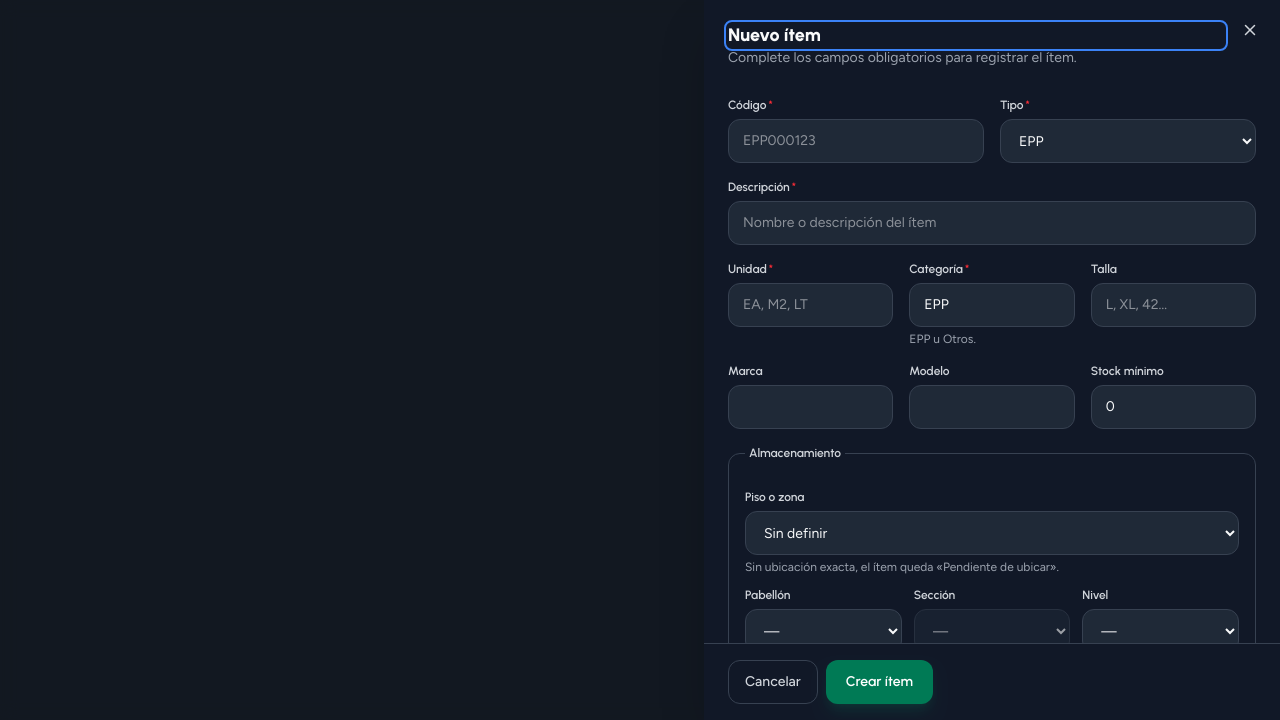
Scenario: ItemFormModal — alta › un stock mínimo «» se rechaza
This screenshot has width=1280, height=720.
Step 1. Type "EPP000900" into the field labelled "Código" → point(856, 141), box [728,119,984,163]
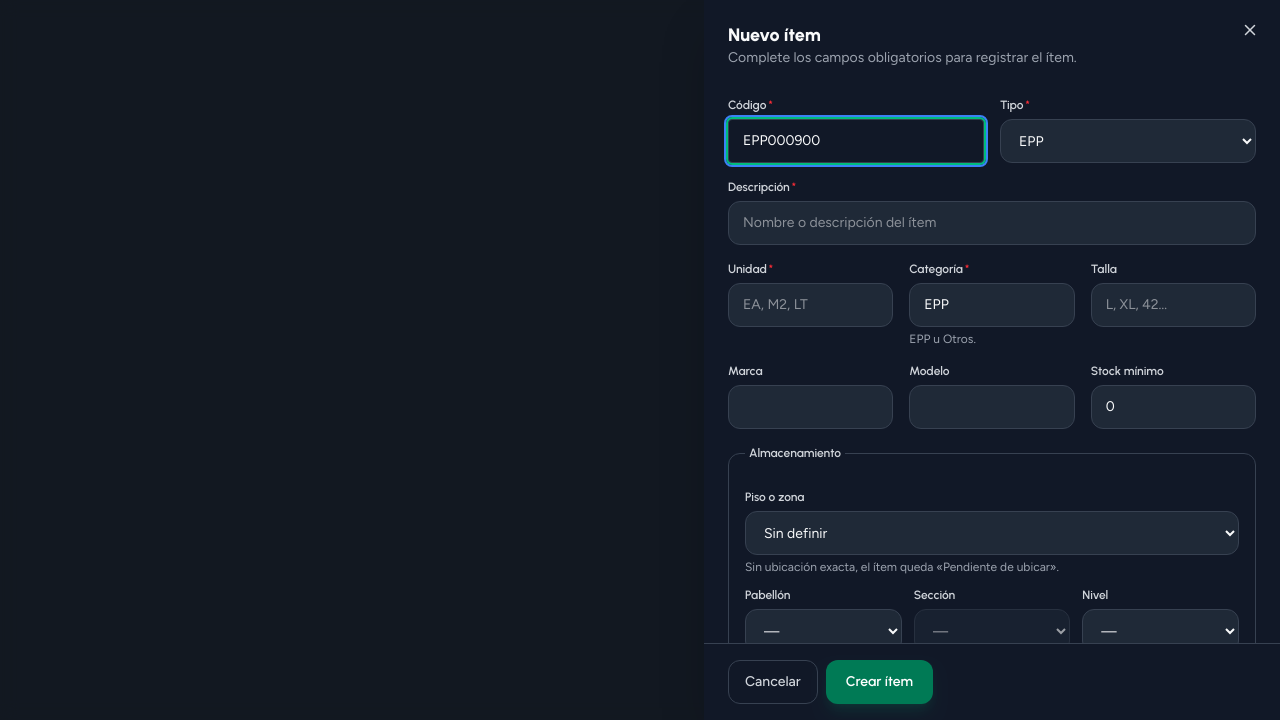
Step 2. Type "Casco nuevo" into the field labelled "Descripción" → point(992, 223), box [728,201,1256,245]
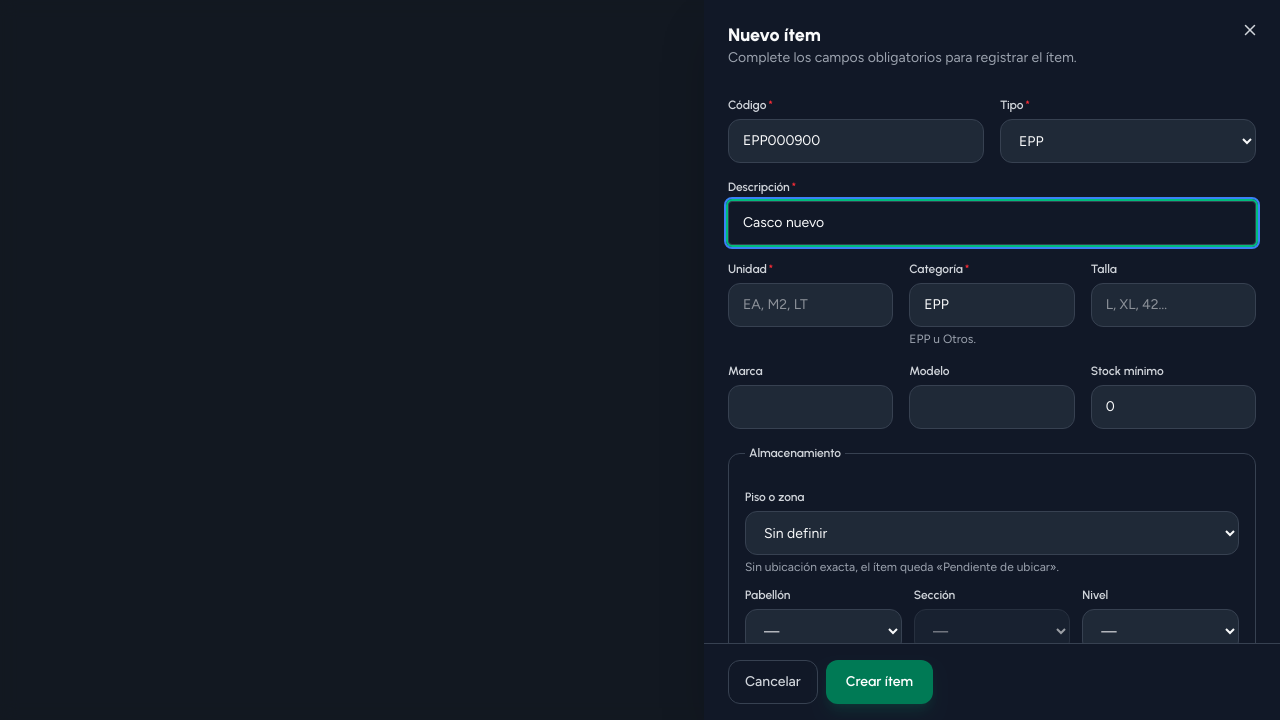
Step 3. Type "EA" into the field labelled "Unidad" → point(811, 305), box [728,283,893,327]
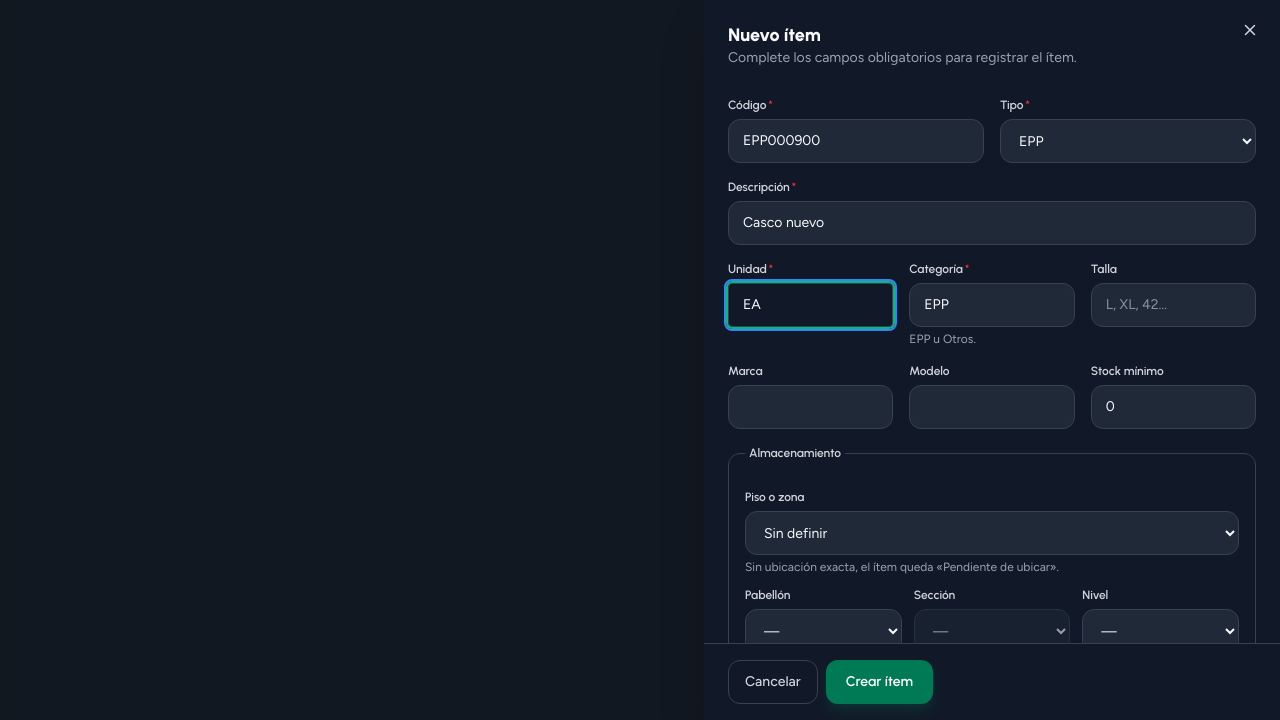
Step 4. Clear the number field labelled "Stock mínimo" → point(1173, 407), box [1091,385,1256,429]
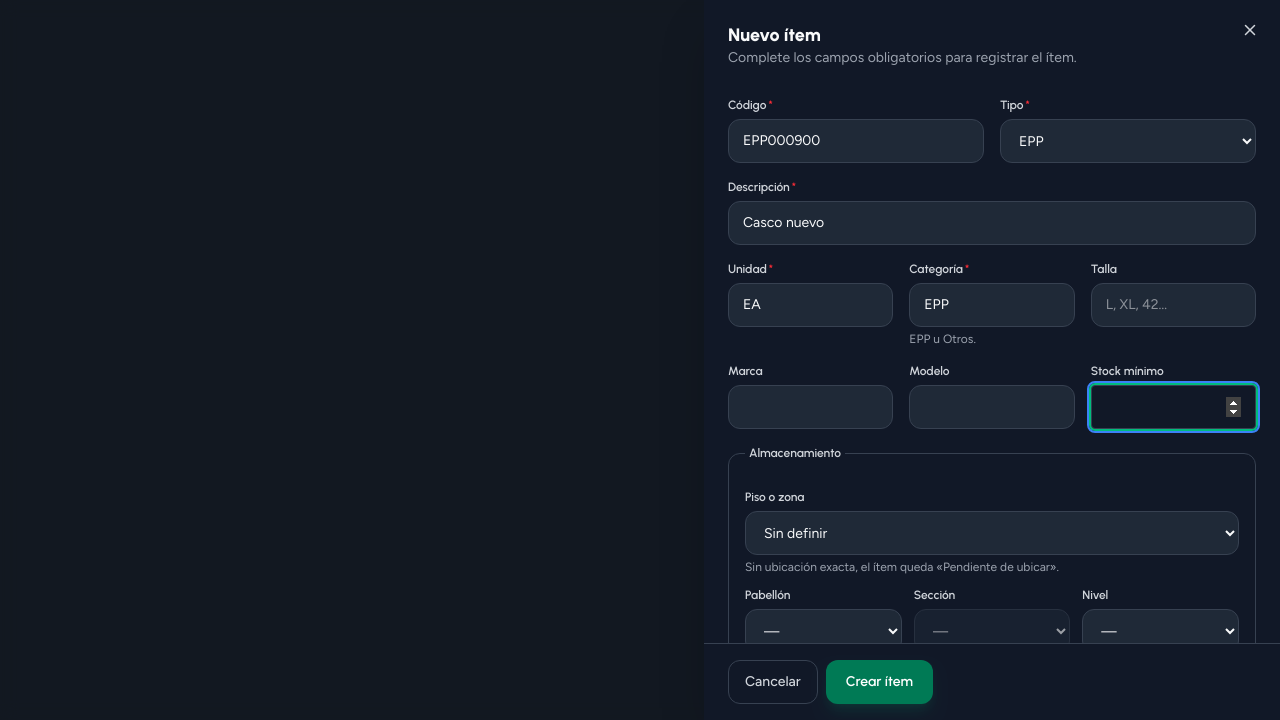
Step 5. Click the button "Crear ítem" → point(879, 682), box [826,660,933,704]
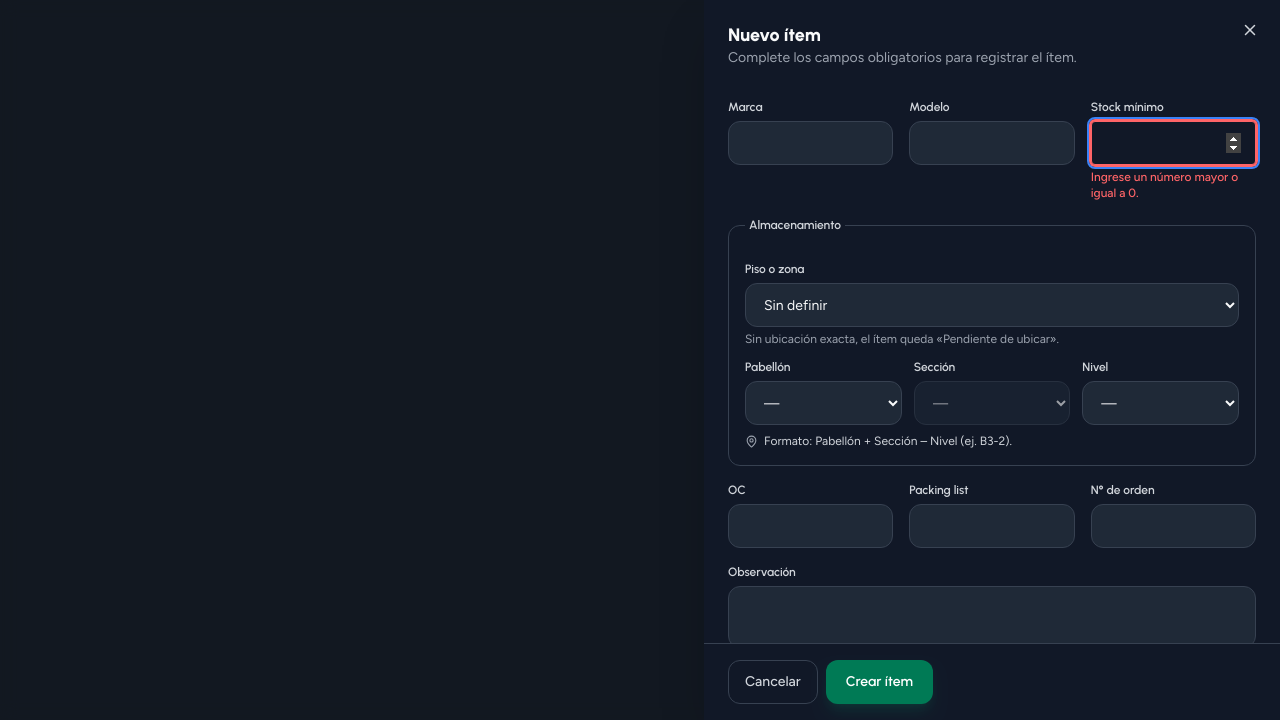
Result: the text "Ingrese un número mayor o igual a 0." is shown at [1091,169,1256,201]
